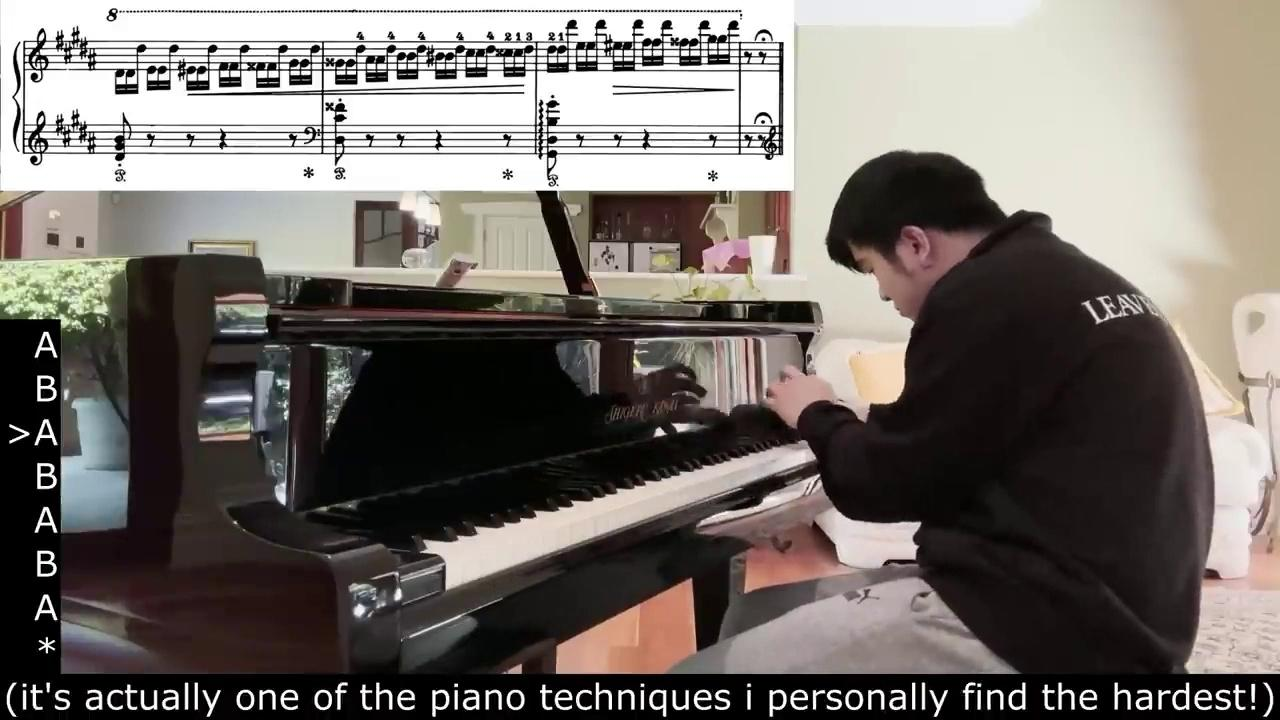BadPosture: (726, 150, 1212, 673)
